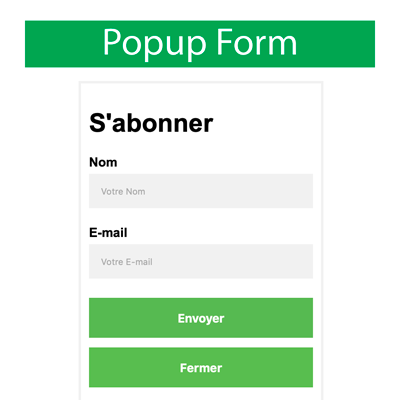button: (87, 295, 314, 339), (86, 346, 315, 389)
field: (87, 172, 313, 208), (88, 243, 313, 279)
